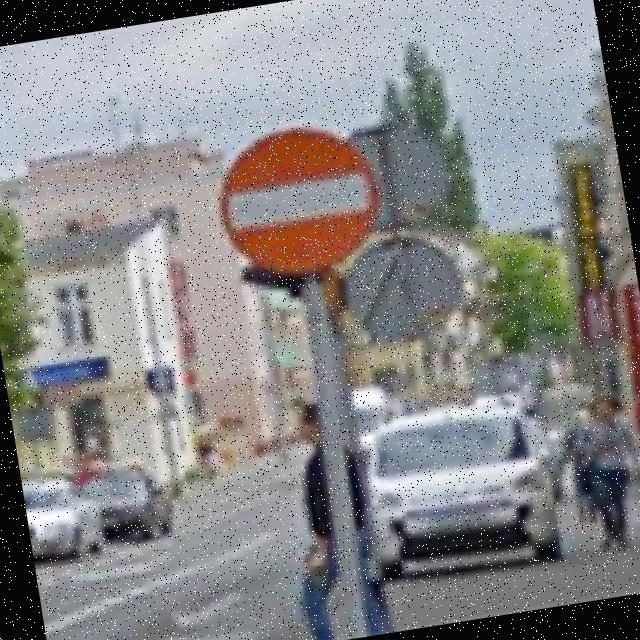Zakaz wjazdu: (208, 114, 386, 288)
